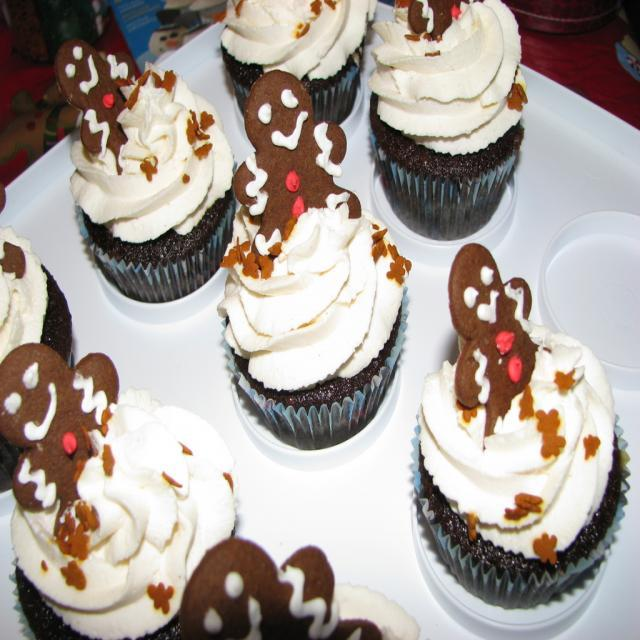Muffin: (412, 241, 630, 613), (0, 337, 238, 639), (213, 194, 409, 456), (50, 46, 238, 308), (359, 0, 533, 240), (178, 536, 420, 640), (0, 180, 79, 491), (218, 0, 379, 130)
